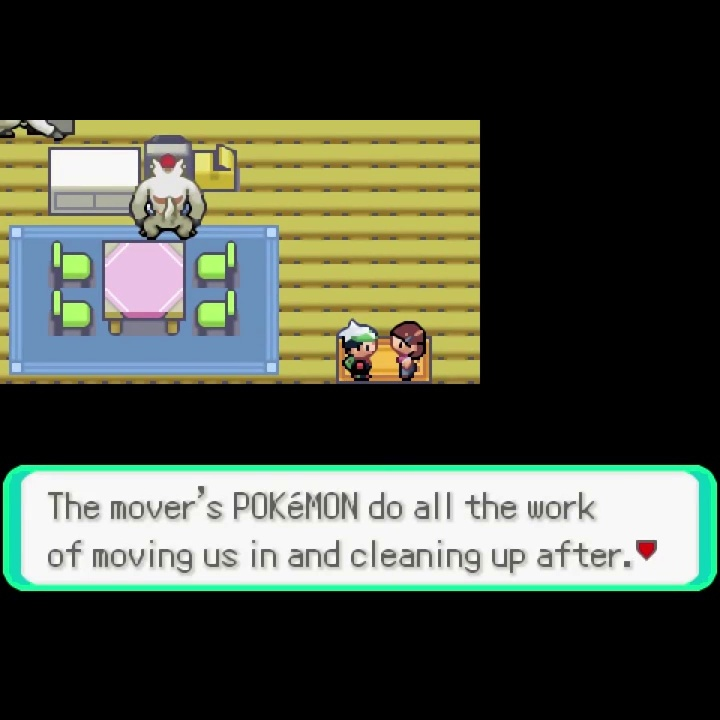agent: (335, 316, 379, 383)
exit: (333, 333, 433, 435)
npc: (387, 318, 429, 382)
